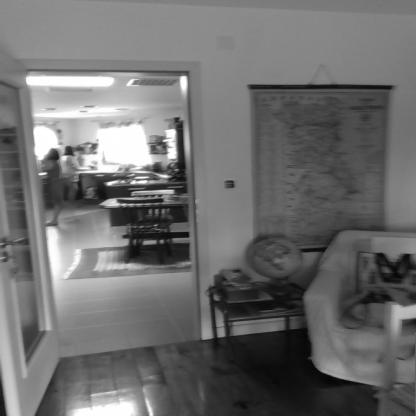open: (8, 49, 212, 361)
